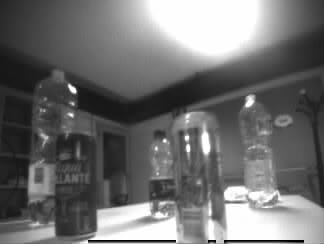Bottle: (26, 67, 72, 222), (240, 94, 277, 206), (145, 130, 175, 216)
Tin can: (174, 112, 223, 244), (57, 133, 95, 236)
